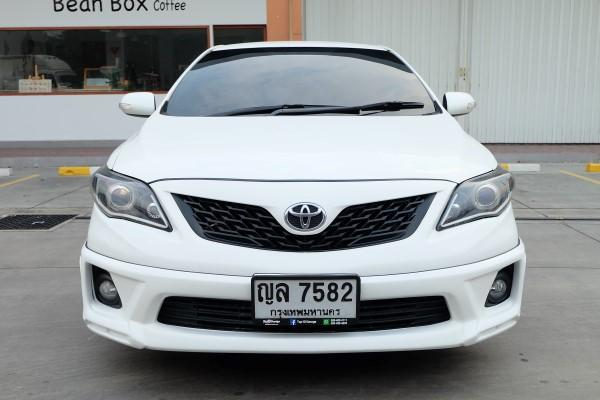license-plate: (249, 271, 361, 330)
